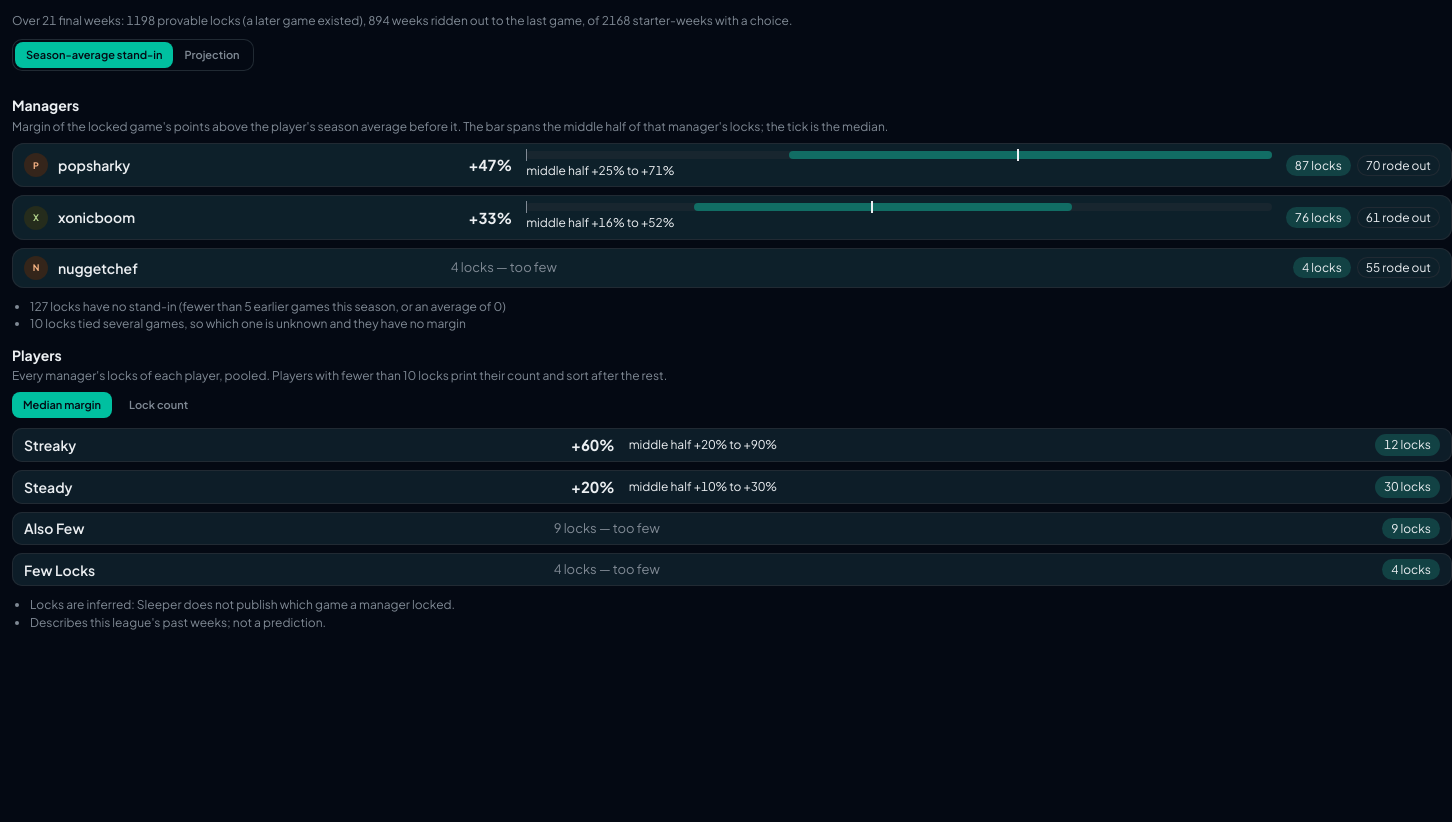
players block (US2) › follows the baseline toggle: the projection has none of these players enough
The image size is (1452, 822).
Click the tab "Projection".
click(212, 55)  # box [173,42,251,68]
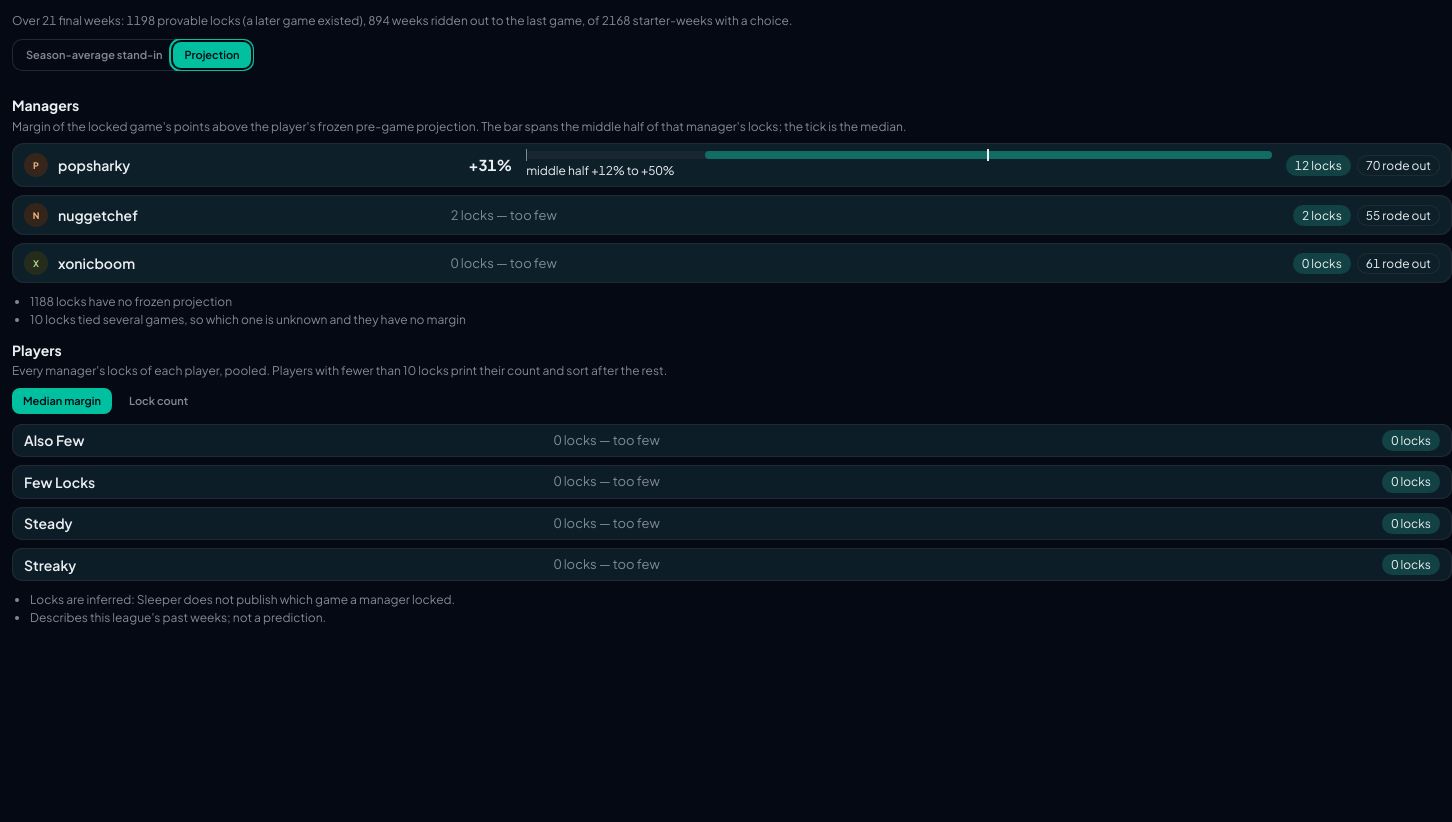
Expected: the list item "Streaky" shows "0 locks — too few", [12,548,1451,581]
